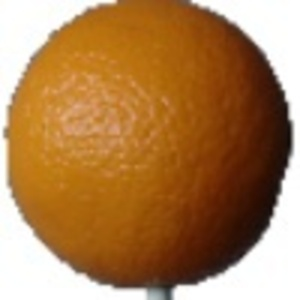laranja: (2, 3, 297, 298)
